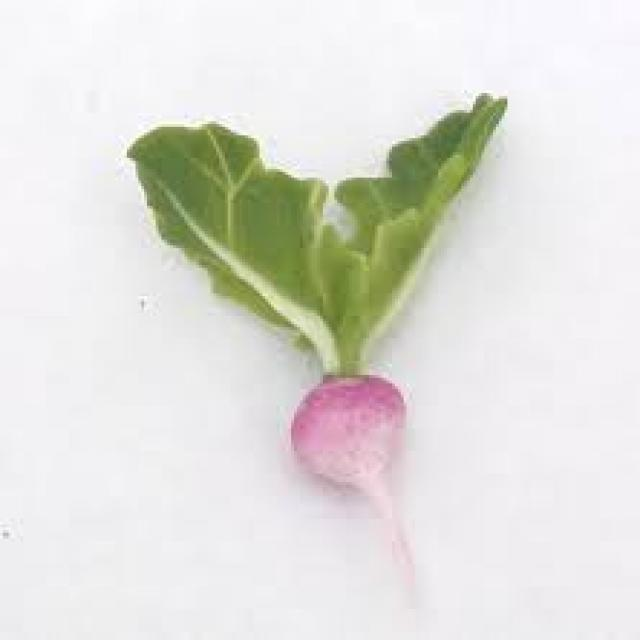organic waste: (121, 90, 505, 609)
